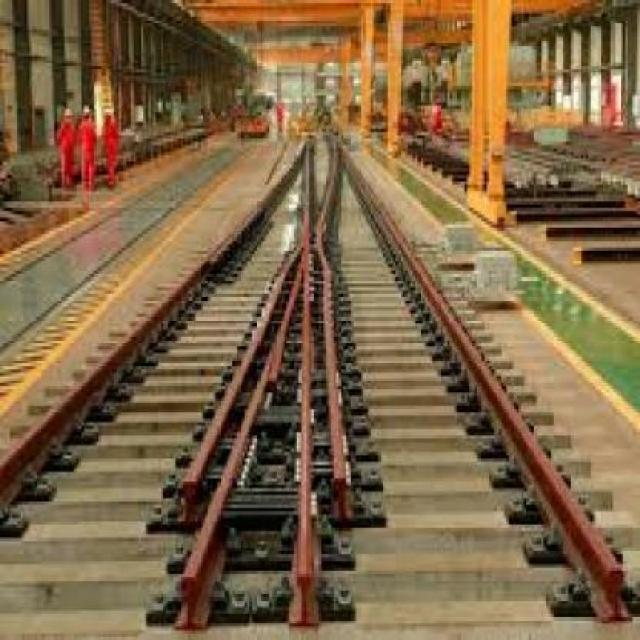rail: (1, 115, 637, 640)
